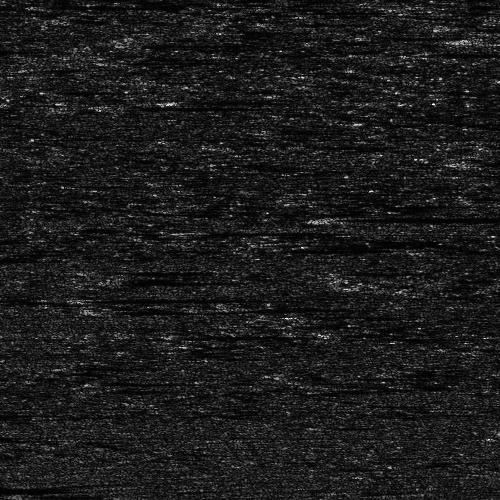object: (360, 153, 500, 168), (382, 33, 500, 48), (0, 0, 111, 9), (185, 302, 268, 313), (288, 213, 361, 220), (168, 97, 221, 102), (108, 105, 149, 110), (6, 491, 47, 496), (54, 294, 85, 299), (97, 306, 118, 313), (178, 223, 189, 234)
shadow: (107, 306, 317, 313), (53, 0, 212, 9), (324, 213, 500, 220), (69, 294, 277, 299), (448, 153, 500, 168), (194, 97, 328, 102), (465, 33, 500, 48), (184, 223, 228, 234), (227, 302, 271, 313), (129, 105, 215, 110), (27, 491, 98, 496), (0, 482, 33, 491), (0, 236, 17, 239)
